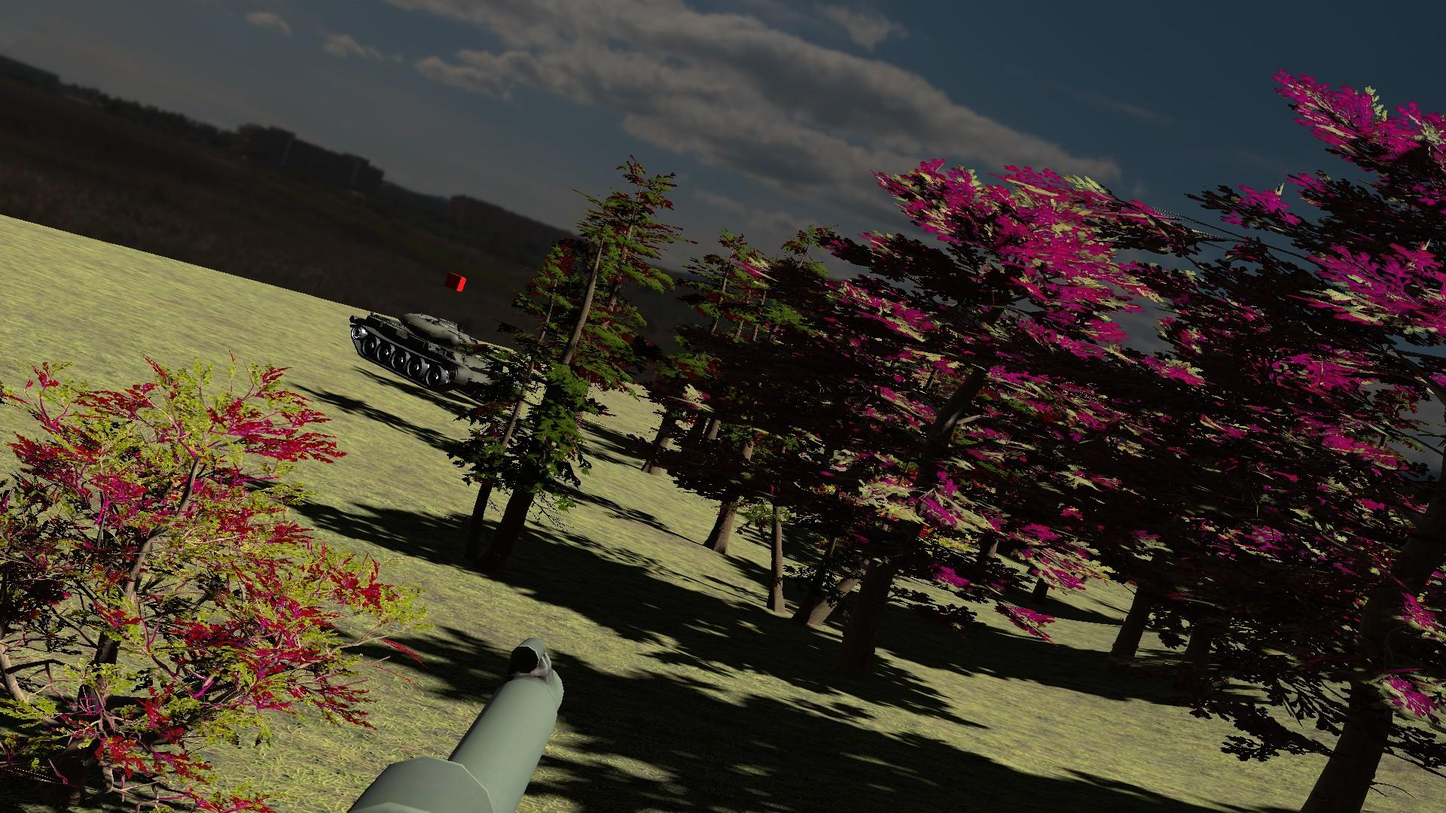Tank: (345, 301, 532, 408)
